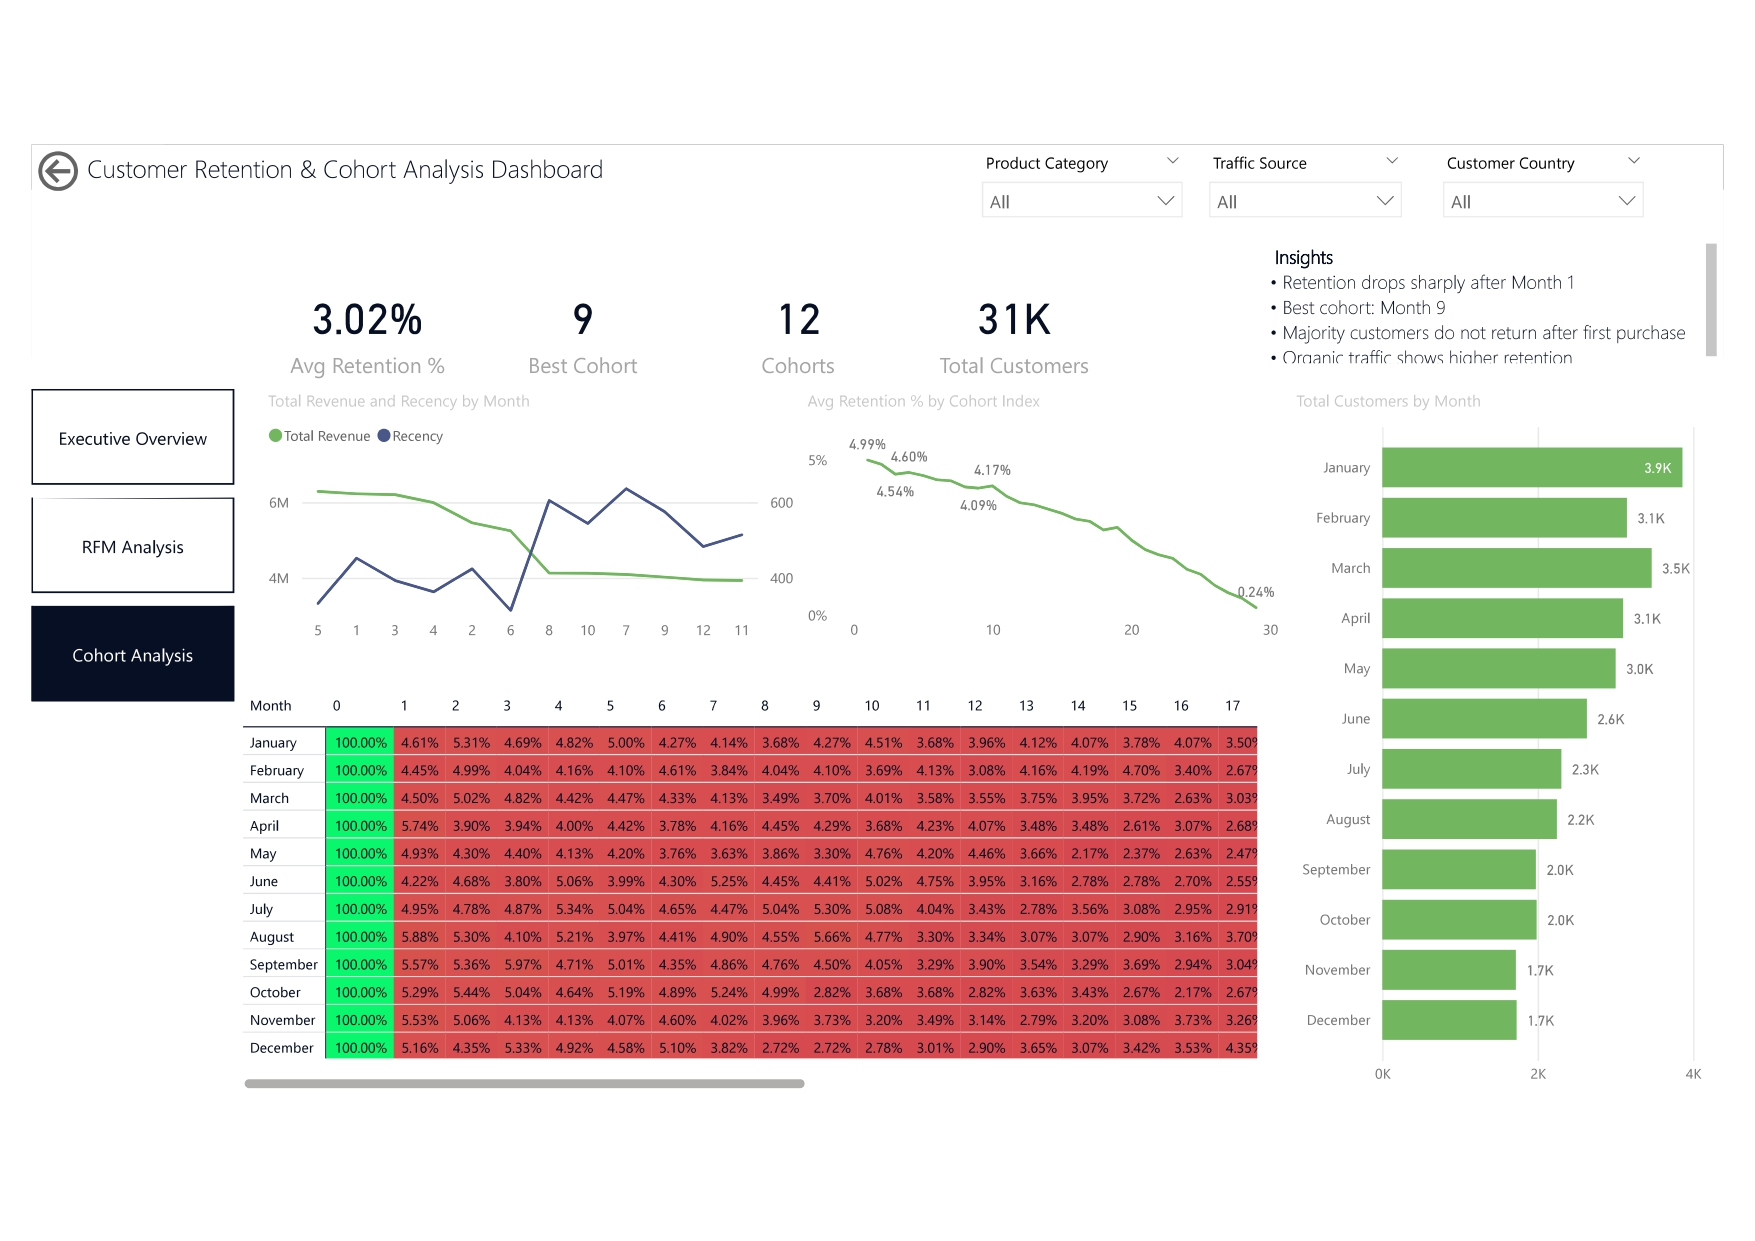

What the dashboard file says about the page in this screenshot:
{"tool":"powerbi","page":{"name":"Cohort Analysis","canvas":[1280,720],"ordinal":2},"visuals":[{"type":"pivotTable","fields":{"Rows":["sales.Cohort Date.Variation.Date Hierarchy.Month"],"Columns":["sales.Cohort Index"],"Values":["Calculations.Retention %"]},"box":[155.1,407.5,776.7,312.9],"z":0},{"type":"slicer","fields":{"Values":["sales.product_category"]},"box":[709.4,0,171.5,70],"z":1000},{"type":"slicer","fields":{"Values":["sales.customer_country"]},"box":[1058,0,171.5,70],"z":2000},{"type":"slicer","fields":{"Values":["sales.traffic_source"]},"box":[881,0,166,70],"z":3000},{"type":"lineChart","fields":{"Category":["Date.Month"],"Y":["Calculations.Total Revenue"],"Y2":["Calculations.Recency"]},"box":[174.2,185.3,408,199],"z":4000},{"type":"actionButton","box":[0,0,100,40],"z":5000},{"type":"card","fields":{"Values":["Calculations.Best Cohort"]},"box":[336.8,94.7,160.5,90.6],"z":6000},{"type":"card","fields":{"Values":["Calculations.Avg Retention %"]},"box":[174.3,94.7,160,90.6],"z":7000},{"type":"card","fields":{"Values":["Calculations.Cohorts"]},"box":[499.9,94.7,160.5,90.6],"z":8000},{"type":"card","fields":{"Values":["Calculations.Total Customers"]},"box":[663,94.6,160.5,90.8],"z":9000},{"type":"textbox","box":[931.7,69.7,348.3,100.8],"z":10000},{"type":"lineChart","fields":{"Y":["Calculations.Avg Retention %"],"Category":["sales.Cohort Index"]},"box":[582.2,185.3,369.5,199],"z":11000},{"type":"clusteredBarChart","fields":{"Category":["sales.Cohort Date.Variation.Date Hierarchy.Month"],"Y":["Calculations.Total Customers"]},"box":[951.6,185.3,328.4,534.9],"z":12000},{"type":"textbox","box":[37.3,0,671.7,49.8],"z":13000},{"type":"pageNavigator","box":[0,185.2,153.7,238.8],"z":14000}]}

Visuals, with their boxes on the page's 1280x720 design canvas (x1, y1, x2, y2). These are canvas units, not pixel positions in the 1755x1241 screenshot, which may show the page scaled, cropped or inside an application window:
pivotTable - sales.Cohort Date.Variation.Date Hierarchy.Month x sales.Cohort Index: crop(155, 408, 932, 720)
slicer - sales.product_category: crop(709, 0, 881, 70)
slicer - sales.customer_country: crop(1058, 0, 1230, 70)
slicer - sales.traffic_source: crop(881, 0, 1047, 70)
lineChart - Date.Month x Calculations.Total Revenue: crop(174, 185, 582, 384)
actionButton: crop(0, 0, 100, 40)
card - Calculations.Best Cohort: crop(337, 95, 497, 185)
card - Calculations.Avg Retention %: crop(174, 95, 334, 185)
card - Calculations.Cohorts: crop(500, 95, 660, 185)
card - Calculations.Total Customers: crop(663, 95, 824, 185)
textbox: crop(932, 70, 1280, 170)
lineChart - Calculations.Avg Retention % x sales.Cohort Index: crop(582, 185, 952, 384)
clusteredBarChart - sales.Cohort Date.Variation.Date Hierarchy.Month x Calculations.Total Customers: crop(952, 185, 1280, 720)
textbox: crop(37, 0, 709, 50)
pageNavigator: crop(0, 185, 154, 424)
